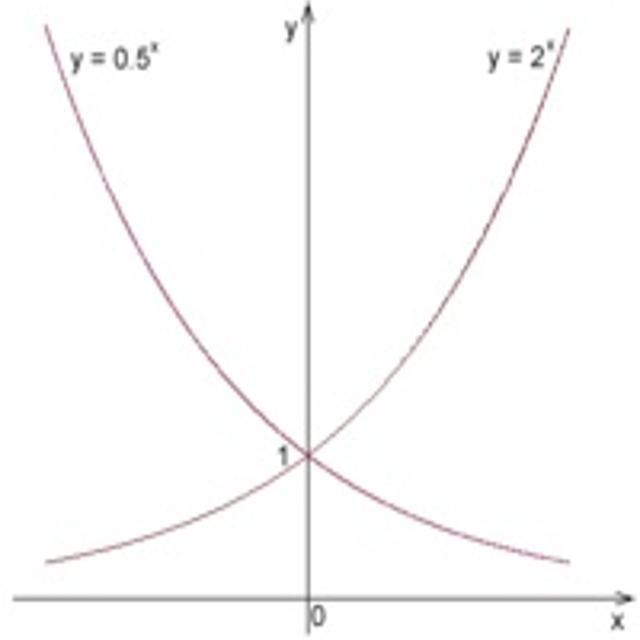axis: (303, 0, 318, 640), (7, 592, 640, 605)
line: (37, 22, 574, 569), (42, 23, 576, 568)
